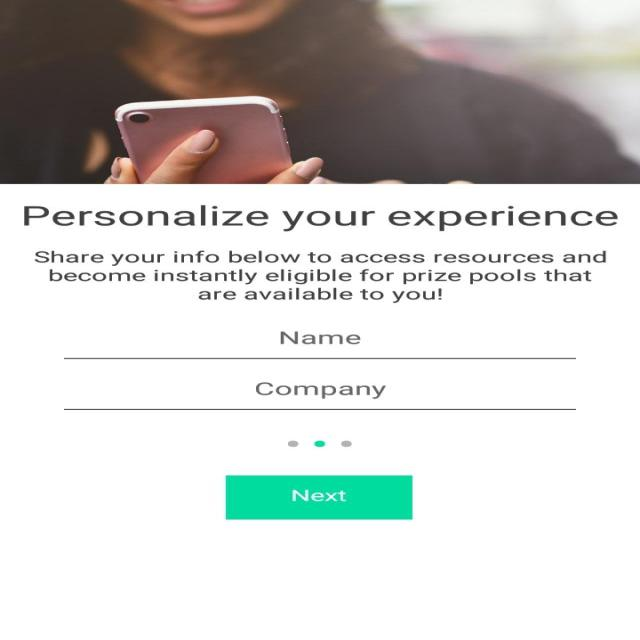EditText: (63, 381, 576, 410), (63, 331, 576, 359)
Image: (0, 0, 639, 184)
Text: (34, 250, 606, 303), (23, 204, 617, 232), (255, 382, 386, 399), (279, 331, 361, 344)
TextButton: (225, 475, 412, 519)
